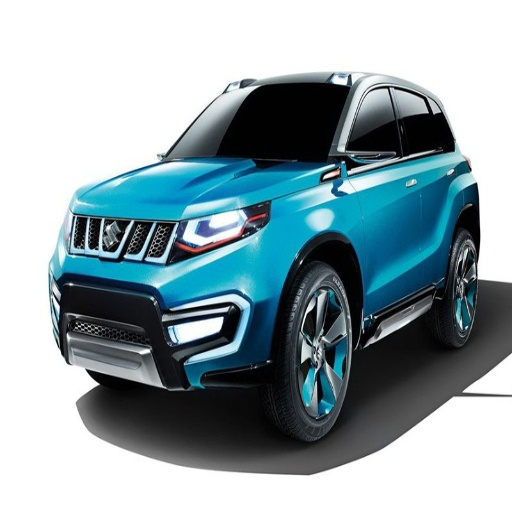front_bumper: (48, 213, 291, 389)
front_glass: (164, 88, 323, 163)
front_left_door: (341, 83, 418, 303)
